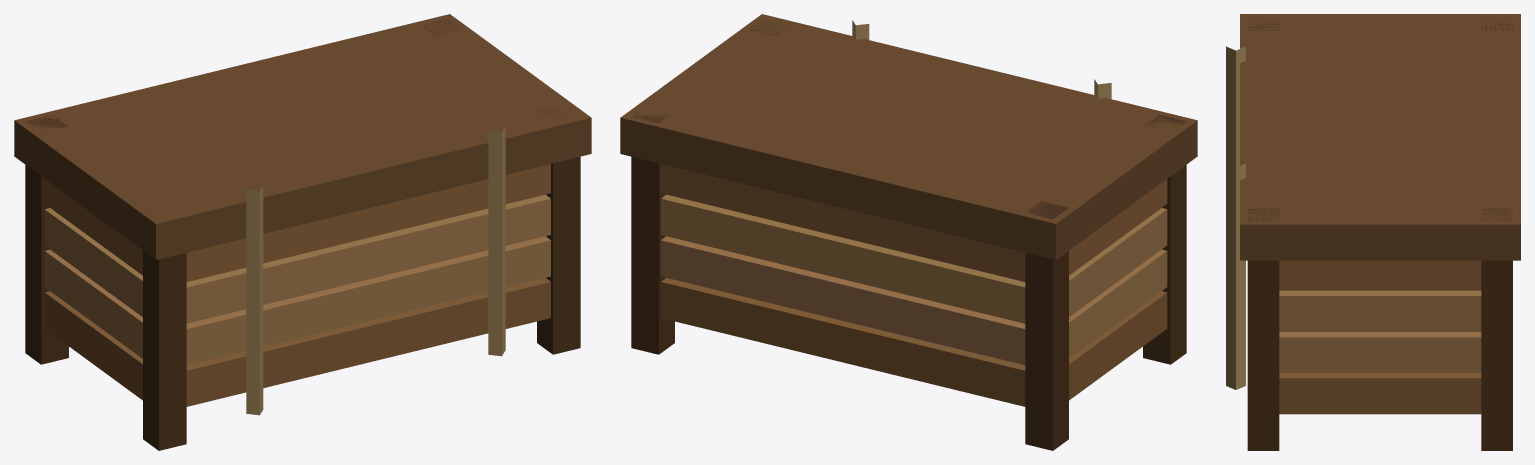
File: chest.glb
3 views of the same model, side by side, from view 1: azimuth 30°, elevation 25°; view 2: azimuth 150°, elevation 25°; view 3: azimuth 270°, elevation 25° (orthographic).
Parts seen in each view (by area): view 1: chest_solid; view 2: chest_solid; view 3: chest_solid.
Part boxes in pixels (x1=…): chest_solid: x1=14, y1=14, x2=591, y2=450; chest_solid: x1=620, y1=14, x2=1197, y2=450; chest_solid: x1=1226, y1=14, x2=1520, y2=450.
Size of the model in its own units: 1.26 by 0.6801 by 0.745.
